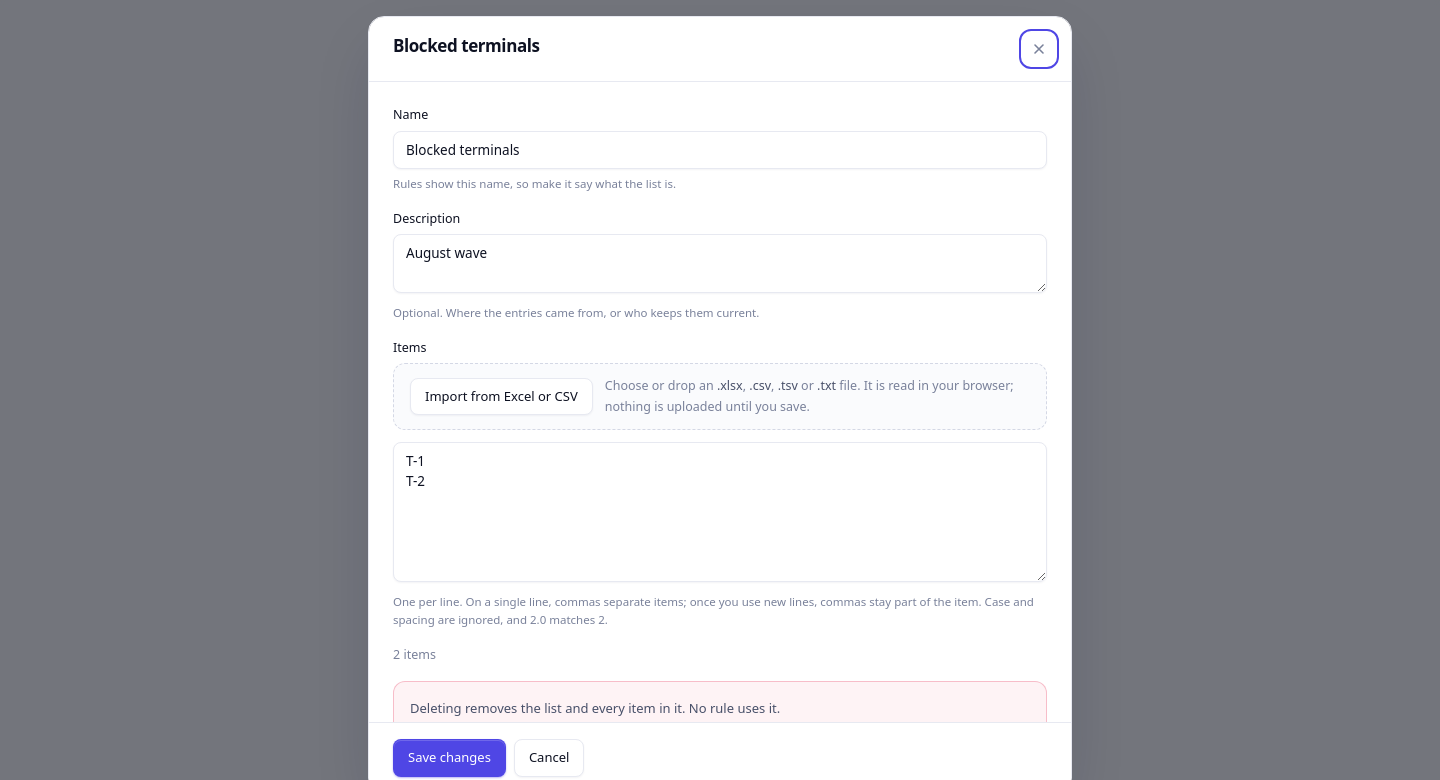
Test: a list you made › stays open with the reason, and reports nothing, when the name is taken
Expected: the field showing "Blocked terminals" is shown, [393, 131, 1047, 169]
Click the button "Save changes": click(449, 758) [393, 740, 506, 777]
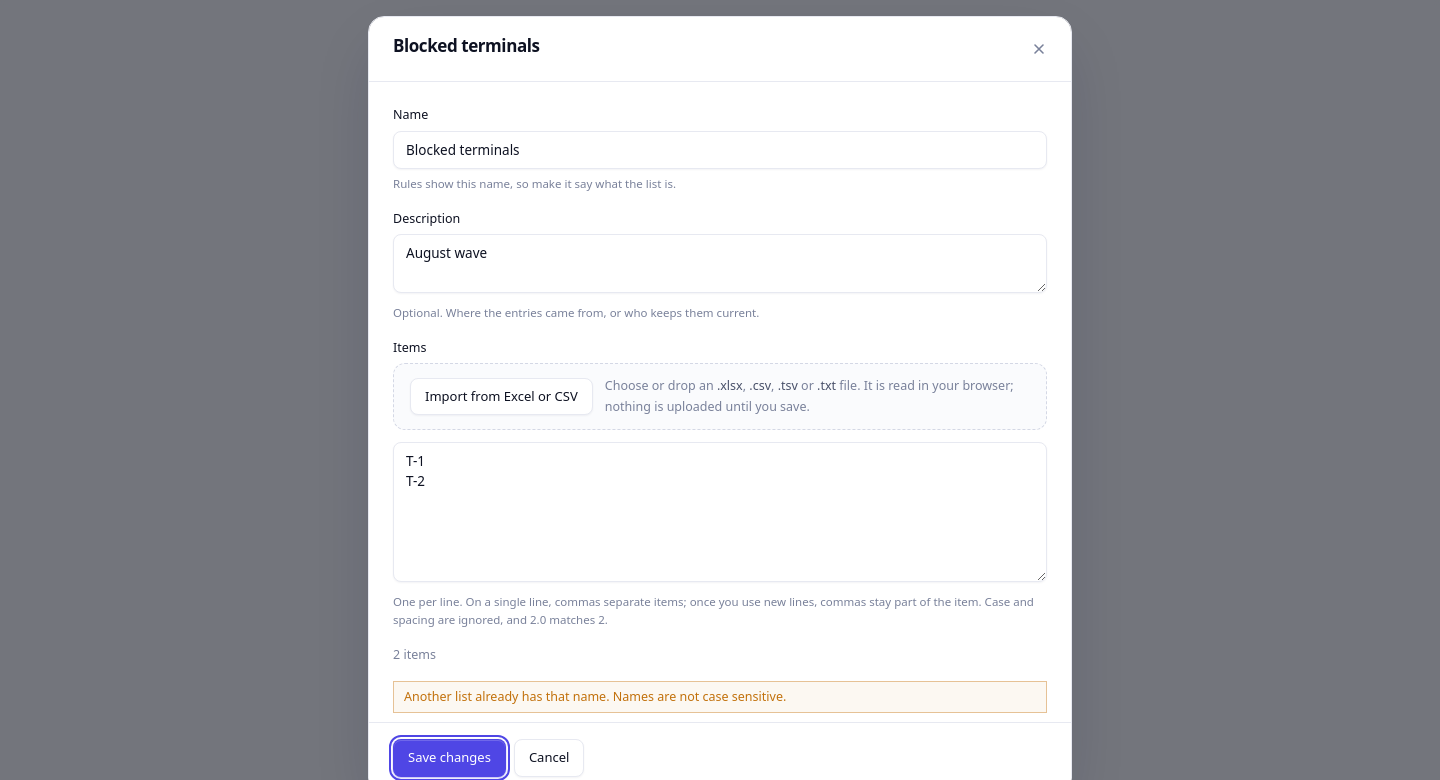
Expected: the message shows "already has that name", [404, 688, 786, 705]
